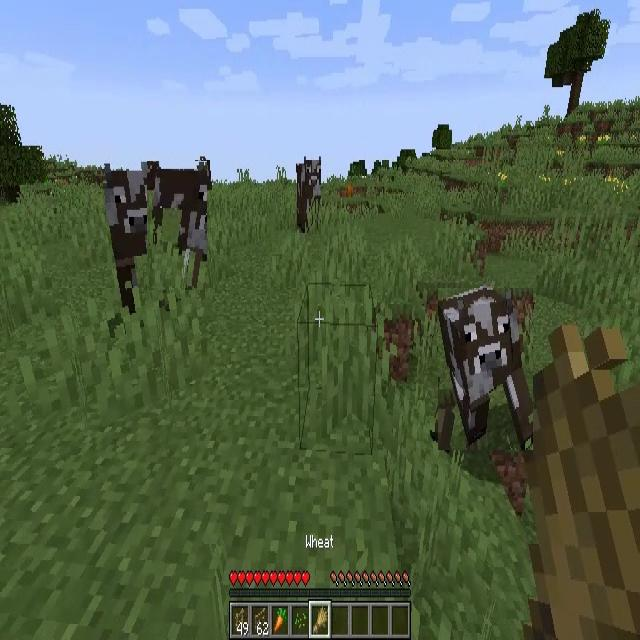cow: (438, 288, 533, 450), (102, 166, 174, 317), (147, 161, 207, 290), (296, 157, 323, 232)
